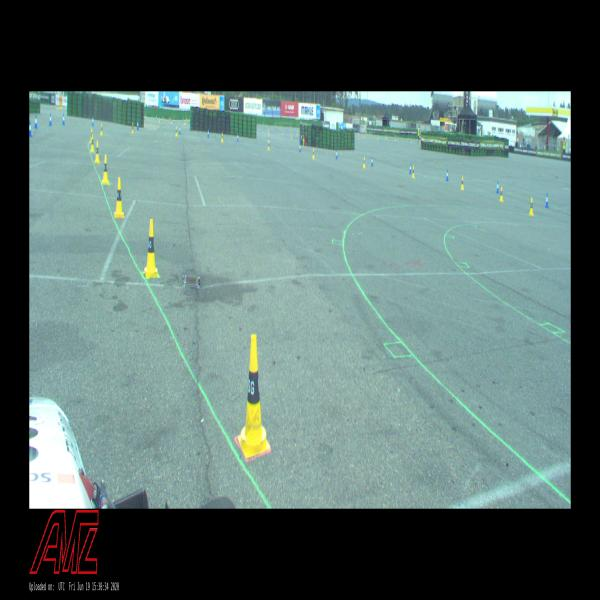blue_cone: (545, 194, 549, 207), (34, 115, 37, 128), (496, 181, 499, 193), (335, 148, 338, 160), (30, 120, 32, 137), (49, 114, 52, 125), (62, 113, 65, 124), (446, 169, 448, 181), (409, 163, 411, 174), (371, 156, 373, 166), (92, 116, 94, 126), (137, 120, 139, 130), (299, 143, 301, 152), (179, 126, 181, 134), (268, 138, 270, 146), (208, 128, 209, 138), (237, 133, 238, 142)
yellow_cone: (238, 334, 270, 458), (143, 218, 159, 278), (114, 177, 124, 218), (102, 154, 109, 184), (94, 141, 100, 164), (529, 197, 534, 215), (90, 134, 95, 152), (500, 186, 503, 202), (90, 128, 93, 143), (461, 176, 464, 190), (100, 124, 103, 136), (221, 132, 224, 143), (412, 166, 414, 178), (132, 123, 134, 134), (312, 148, 314, 159), (363, 157, 365, 168), (268, 140, 270, 151), (176, 126, 178, 136)
